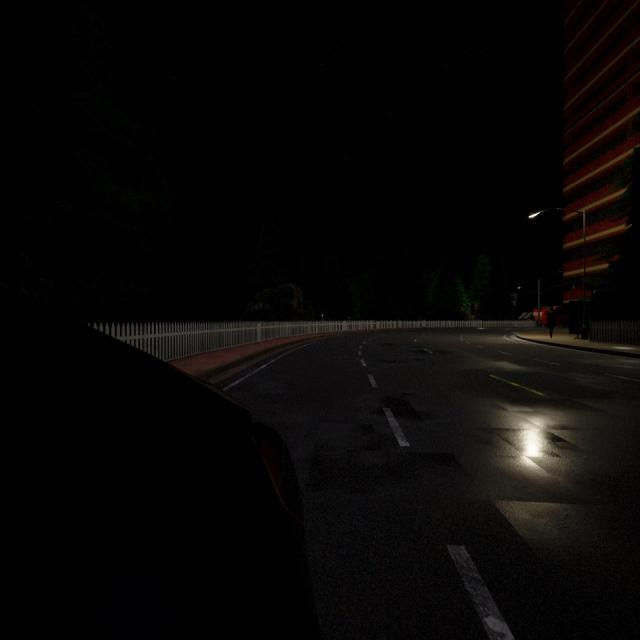Pedestrian: (548, 305, 554, 339)
Vehicle: (0, 296, 312, 640), (533, 306, 559, 328)
